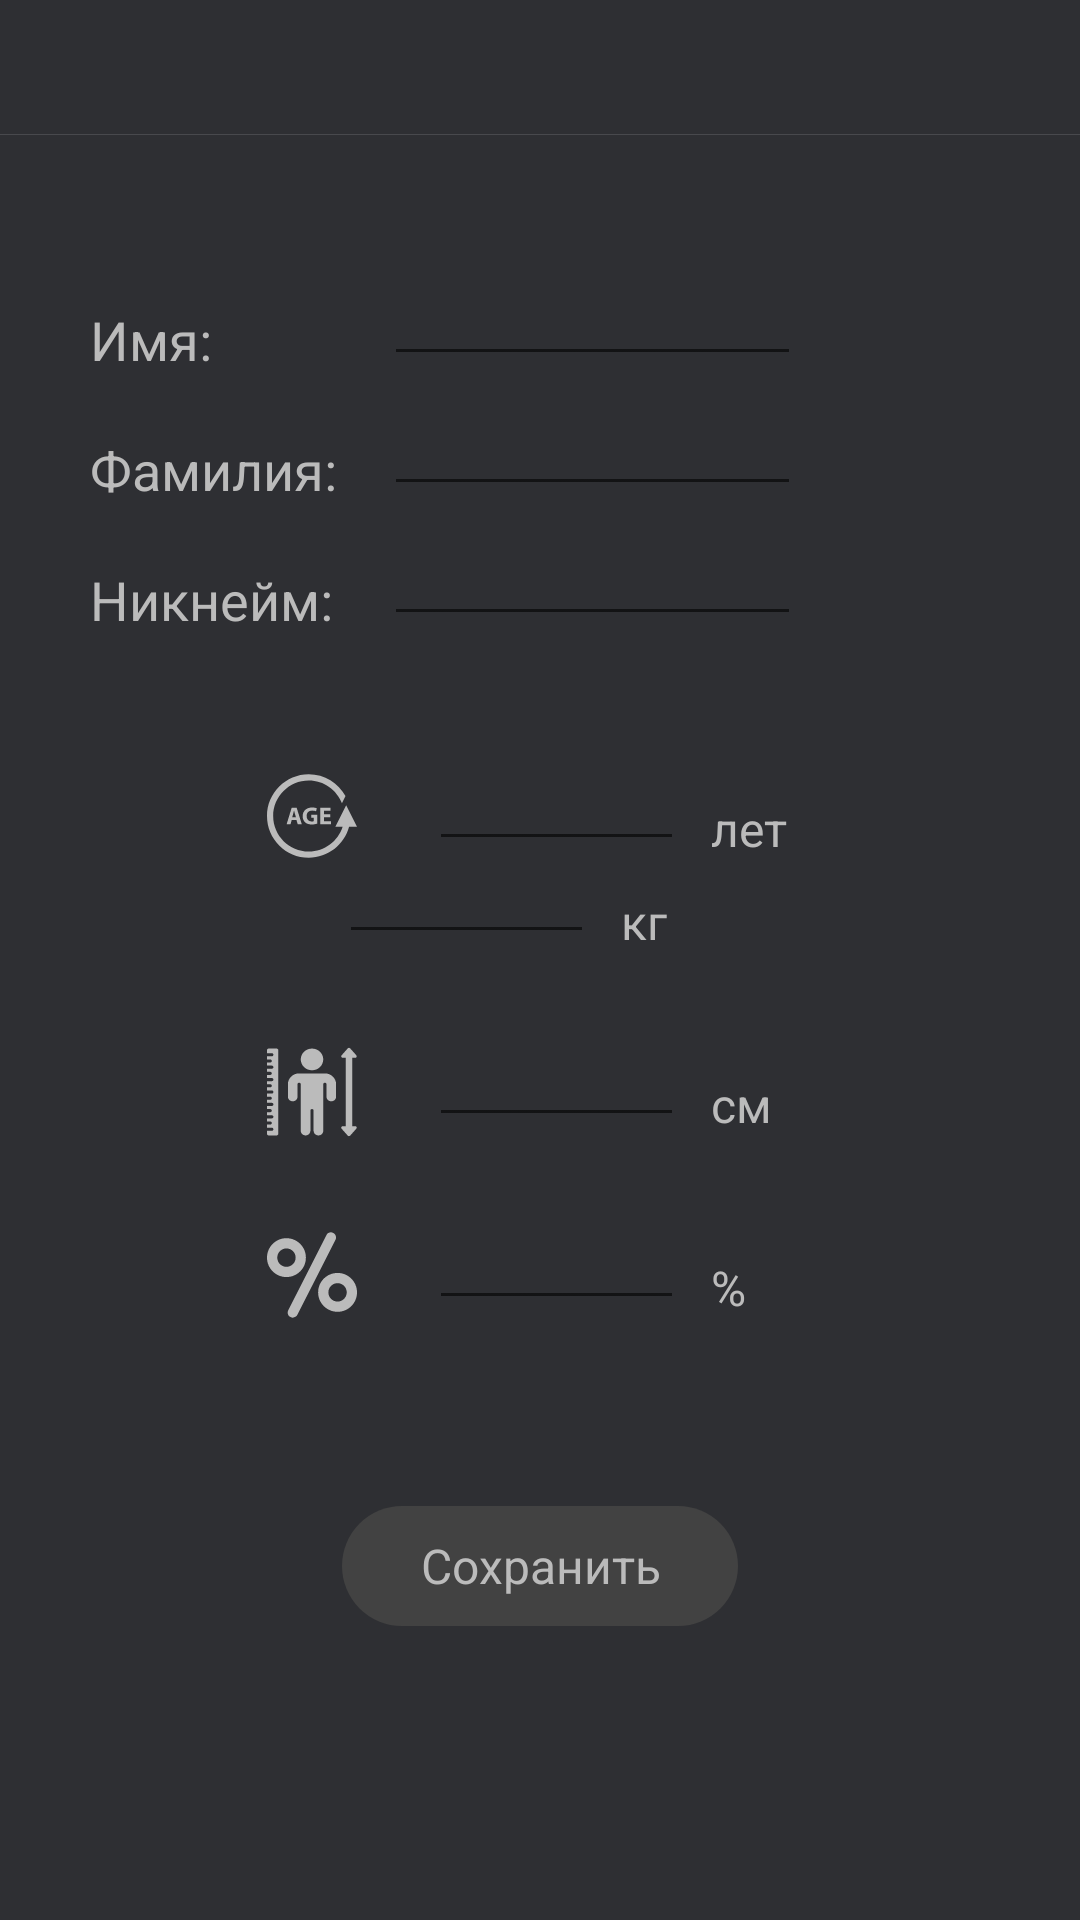

Named icons in this screenshot (1080px×1920px) and their bounding boxes, box=[x1, y1, x2, y2]:
height: box=[267, 1048, 357, 1136]
percent: box=[267, 1232, 357, 1318]
